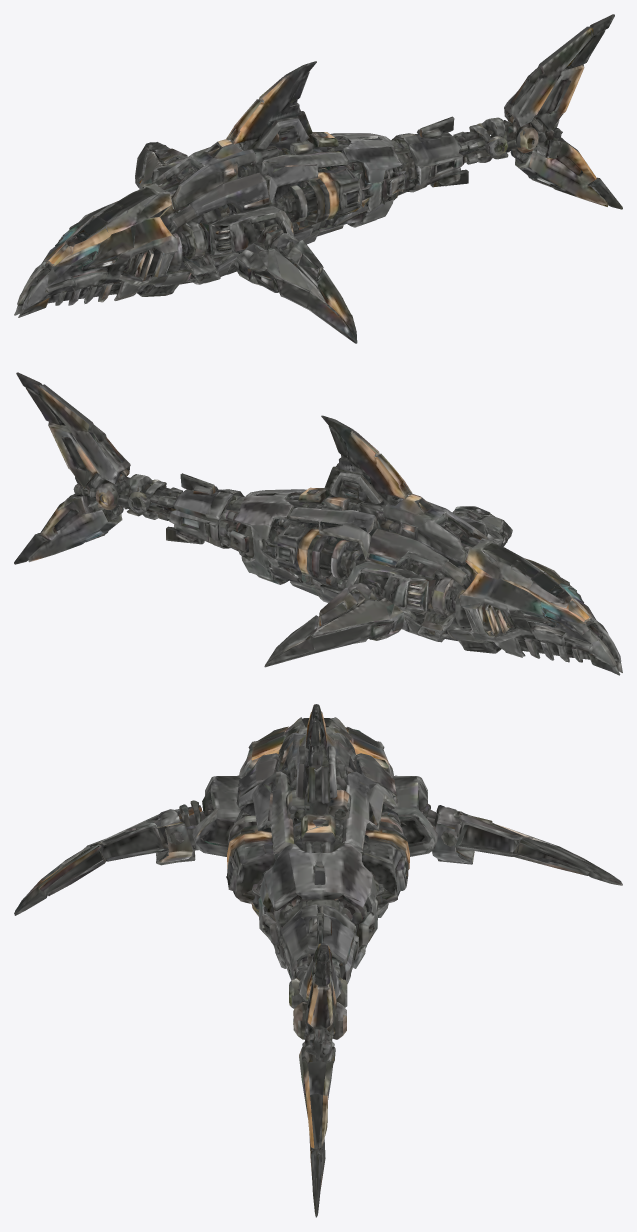
The model's file is model_preview.glb.
3 views of the same model, one above another, from view 1: azimuth 30°, elevation 25°; view 2: azimuth 150°, elevation 25°; view 3: azimuth 270°, elevation 25° (orthographic). The views are drawn at different scales.
Bounding box in the file's own units: 0.9492 × 0.3335 × 0.6119.
Materials: 1 (1 with a texture image).
